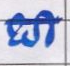i_matra: (40, 9, 53, 46)
